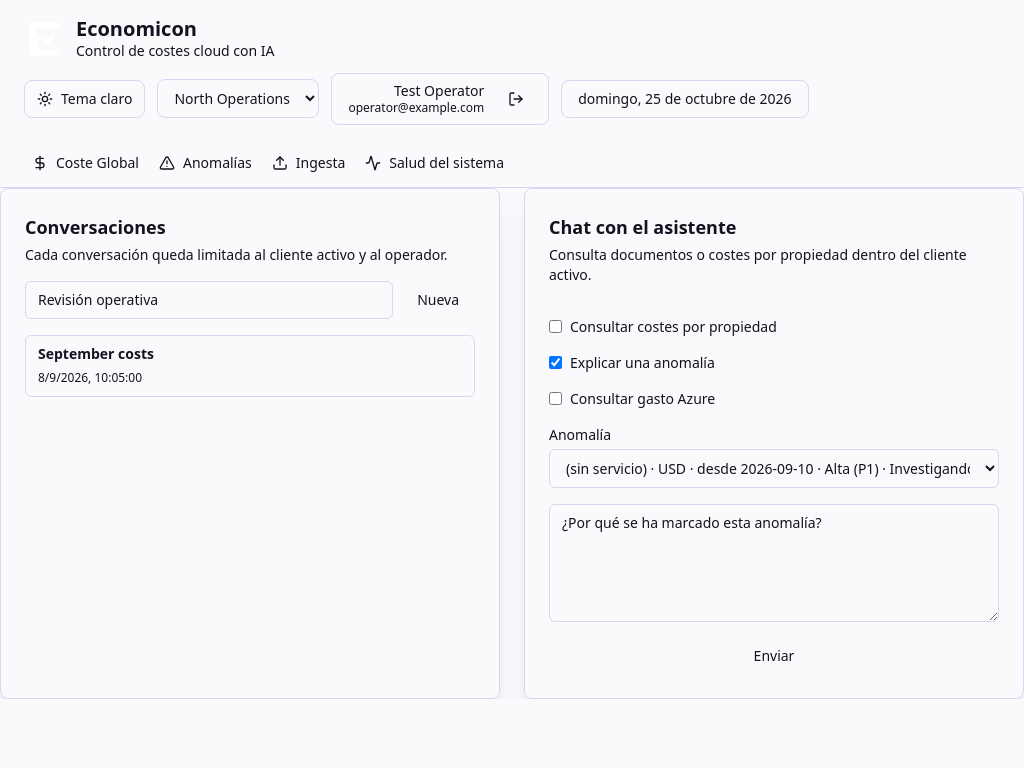
JUP-038 6.6 AnomalyExplanationFields: la preselección del enlace se aplica una sola vez › si la persona vuelve a 'Elige una anomalía' y la lista se refresca, no se le reimpone la del enlace
La persona decide no explicar ninguna: vuelve a la opcion neutra y el envio queda bloqueado.
Select "Elige una anomalía" in the dropdown labelled "Anomalía": (774,468) [549,448,999,488]
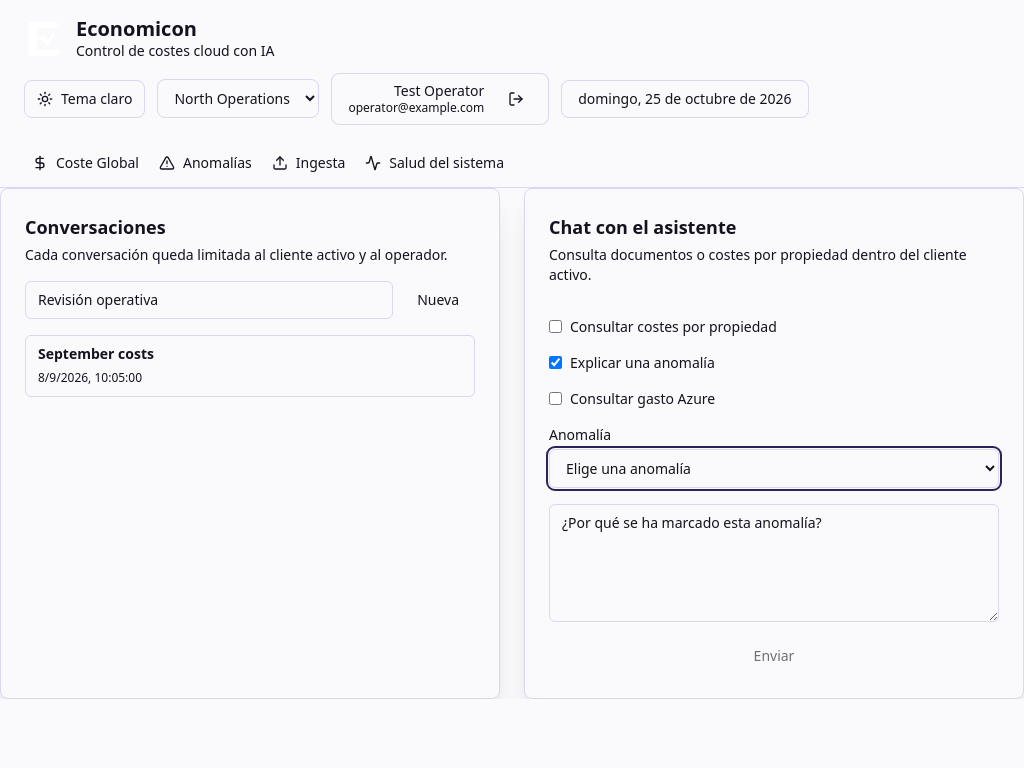
Expected: the button "Enviar" is disabled, [549,638,999,674]
